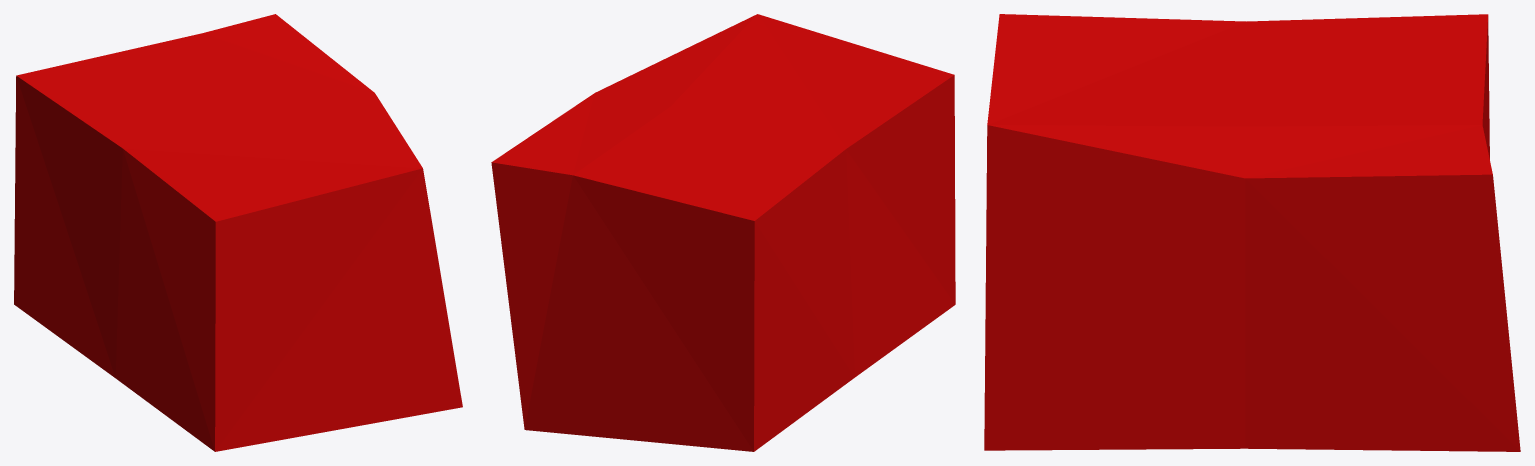
3 views of the same model, side by side, from view 1: azimuth 30°, elevation 25°; view 2: azimuth 150°, elevation 25°; view 3: azimuth 270°, elevation 25° (orthographic). The views are drawn at different scales.
Parts seen in each view (by area): view 1: Mesh; view 2: Mesh; view 3: Mesh.
Boxes of the visible parts, box(x1,y1,x2,y2) form: Mesh: box(14, 14, 462, 451); Mesh: box(491, 14, 955, 451); Mesh: box(984, 14, 1520, 451).
Bounding box in the file's own units: 0.6005 × 0.5687 × 0.8692.
